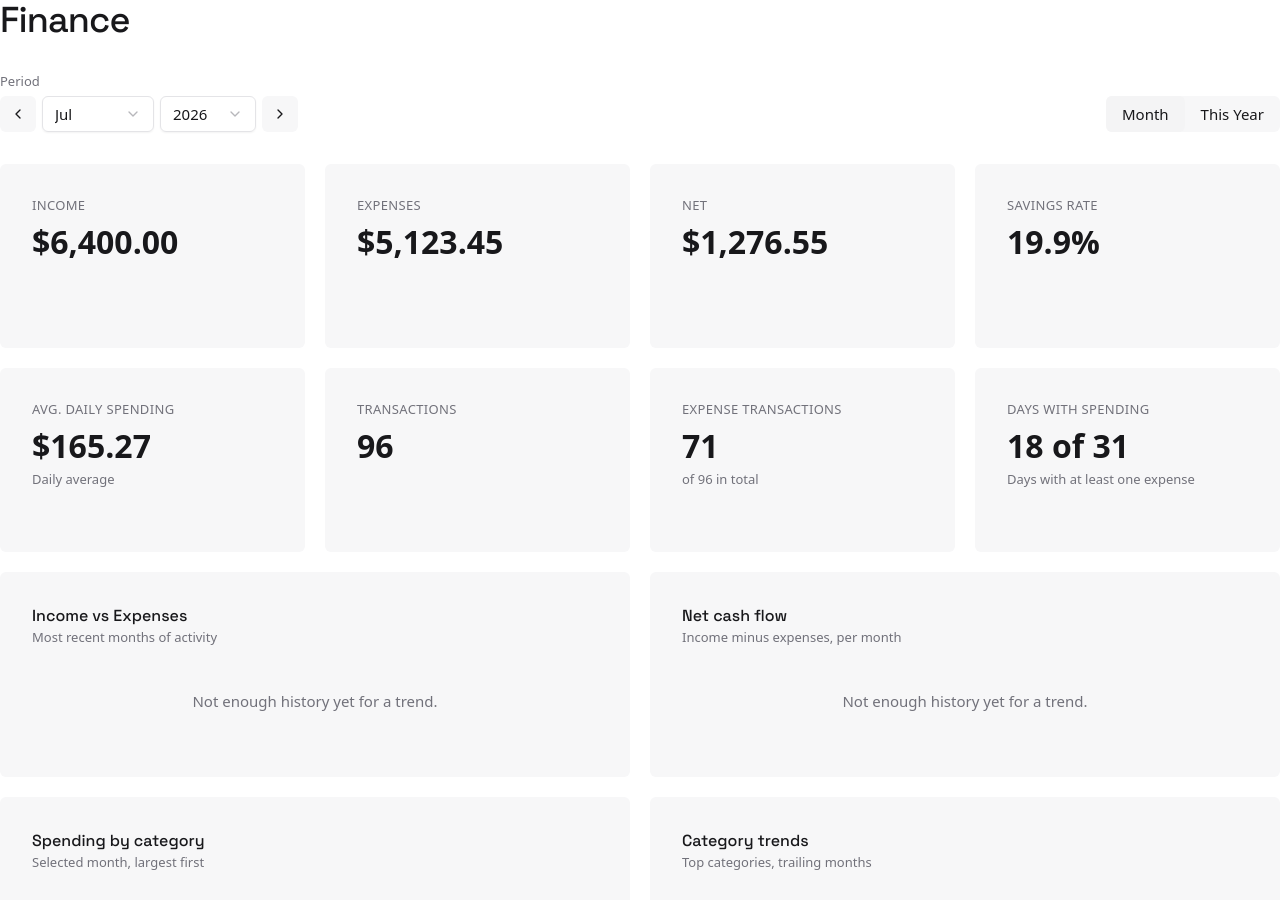
Test: FinanceDashboard — year view › says nothing is imported instead of printing $0.00 across the board
Click the button "This Year": click(1232, 114) [1185,96,1279,132]
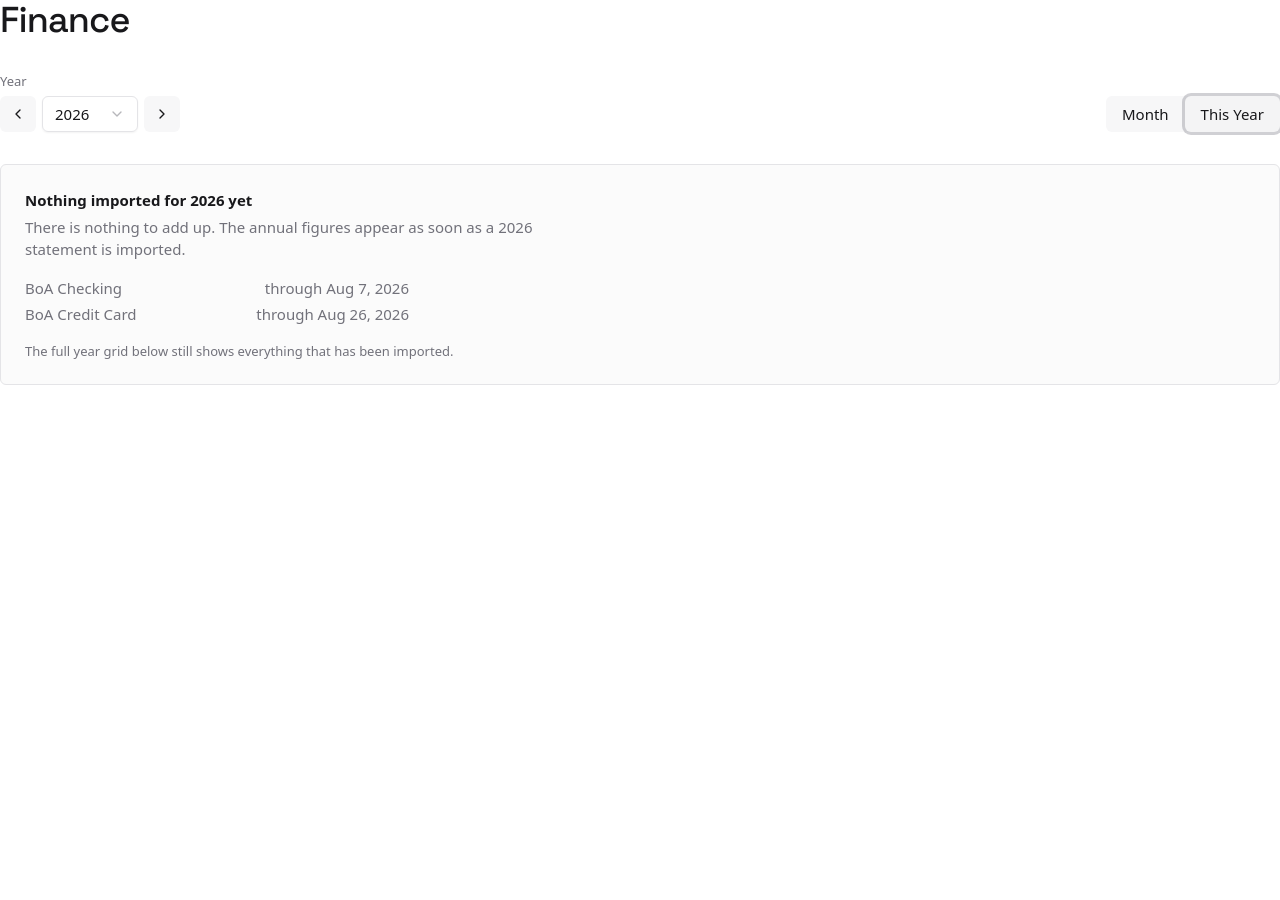
Result: the heading "Nothing imported for 2026 yet" is shown at [25,190,252,210]
Result: the text "BoA Checking" is shown at [25,277,122,299]
